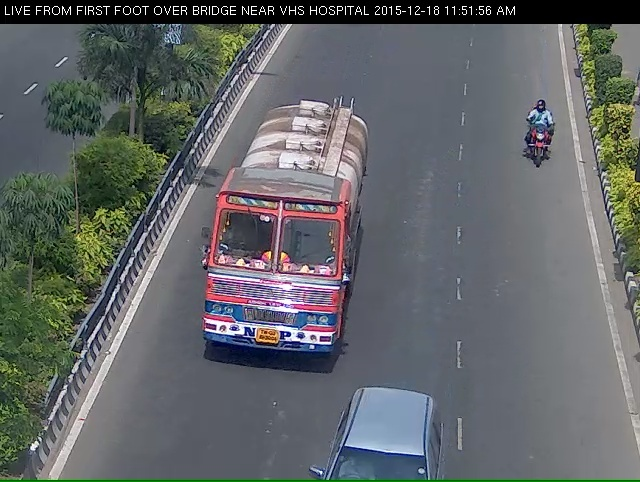Bus: (206, 100, 349, 386)
Car: (319, 412, 444, 480)
Person: (518, 105, 558, 176)
